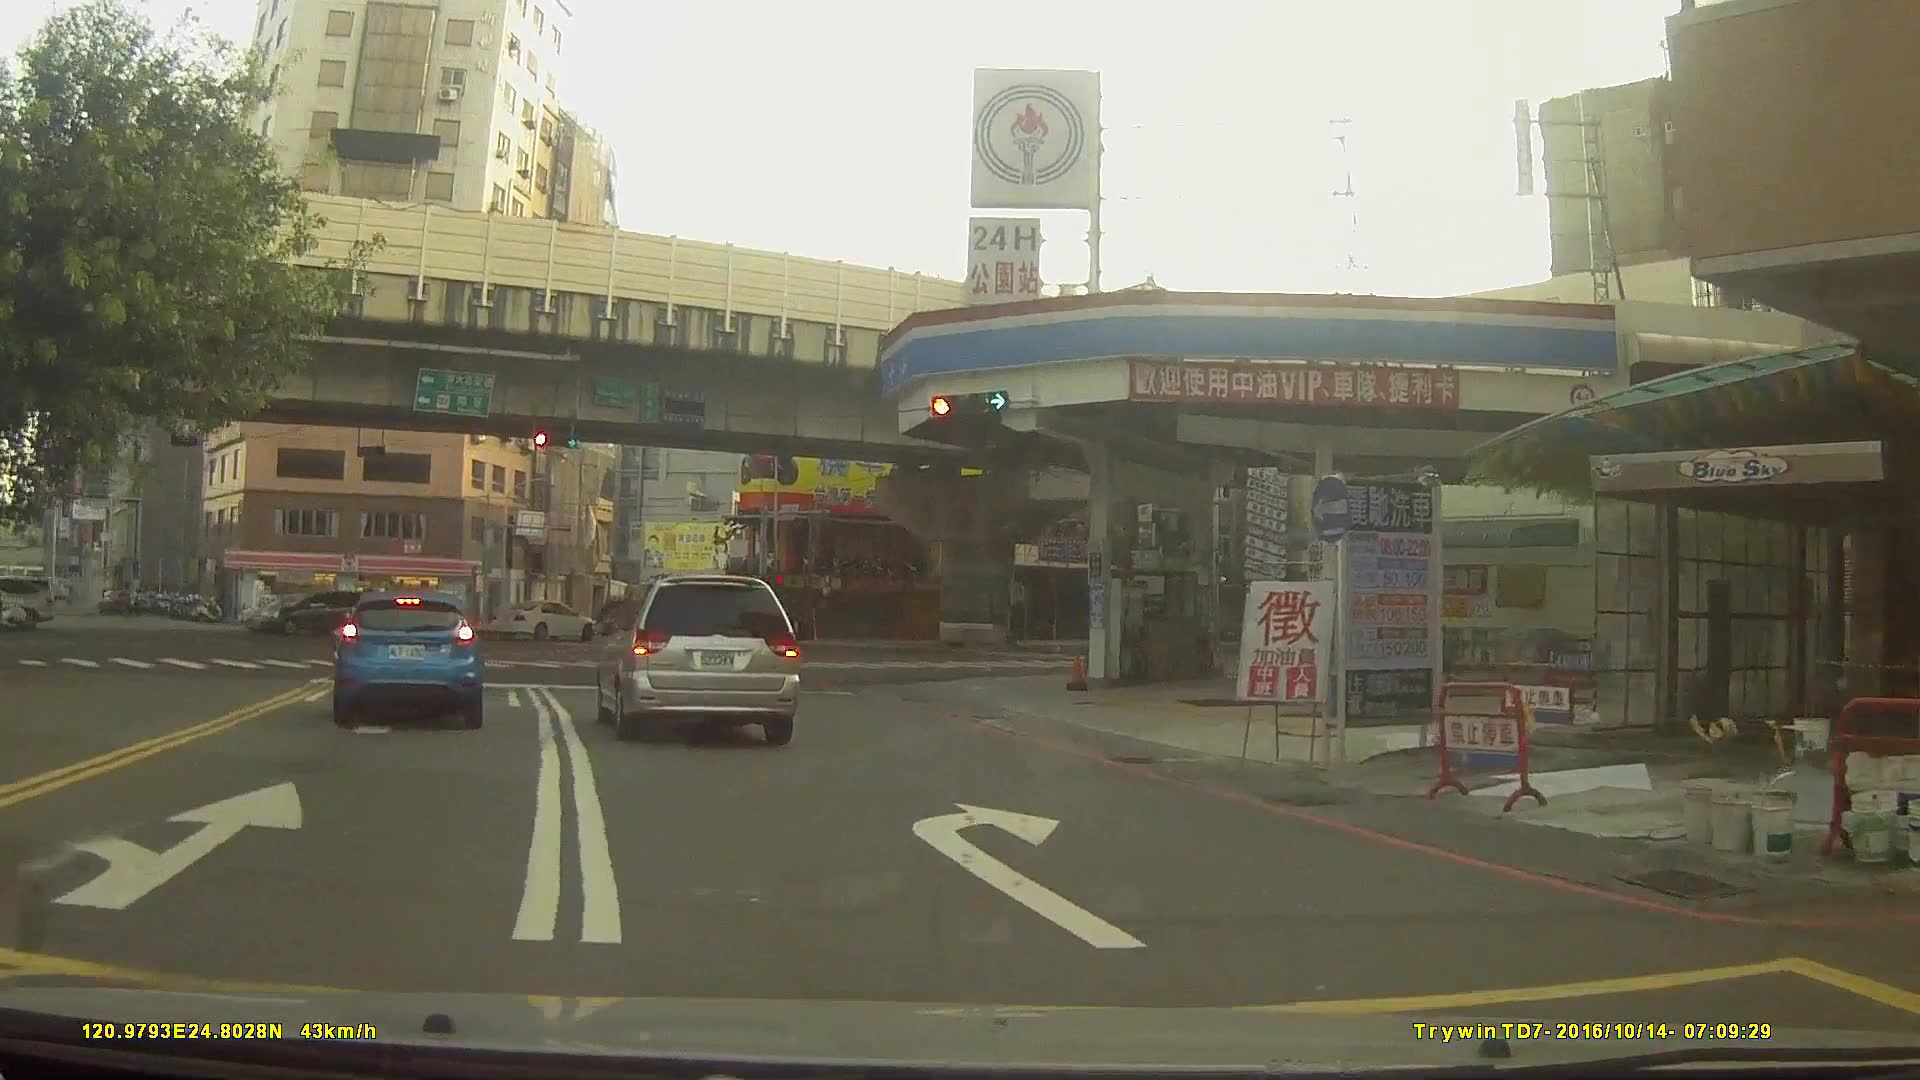vehicle: (595, 571, 800, 745), (328, 583, 487, 731), (248, 588, 377, 634), (491, 597, 597, 640)
